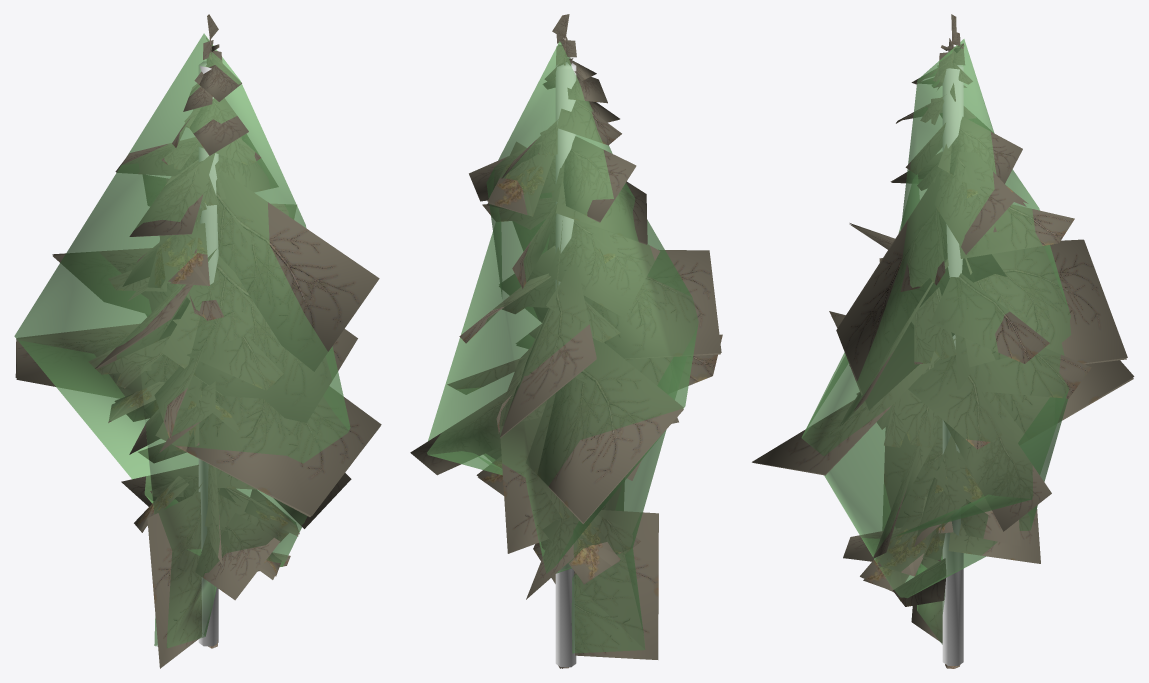
File: tree_douglasfir_dead_02.dae
3 views of the same model, side by side, from view 1: azimuth 30°, elevation 25°; view 2: azimuth 150°, elevation 25°; view 3: azimuth 270°, elevation 25° (orthographic). The views are drawn at different scales.
Parts seen in each view (by area): view 1: Colmesh_dead02-1, tree_douglasfir_dead_02_a400, tree_douglasfir_dead_02_a700; view 2: Colmesh_dead02-1, tree_douglasfir_dead_02_a400, tree_douglasfir_dead_02_a700; view 3: Colmesh_dead02-1, tree_douglasfir_dead_02_a700, tree_douglasfir_dead_02_a400.
Boxes of the visible parts, box(x1,y1,x2,y2) form: Colmesh_dead02-1: box(14, 33, 350, 648); tree_douglasfir_dead_02_a400: box(15, 38, 381, 599); tree_douglasfir_dead_02_a700: box(16, 14, 380, 668); Colmesh_dead02-1: box(427, 41, 698, 667); tree_douglasfir_dead_02_a400: box(410, 14, 722, 668); tree_douglasfir_dead_02_a700: box(461, 38, 720, 668); Colmesh_dead02-1: box(801, 39, 1071, 665); tree_douglasfir_dead_02_a700: box(752, 14, 1133, 668); tree_douglasfir_dead_02_a400: box(752, 41, 1134, 591).
Size of the model in its own units: 6.14 by 7.34 by 13.74.
